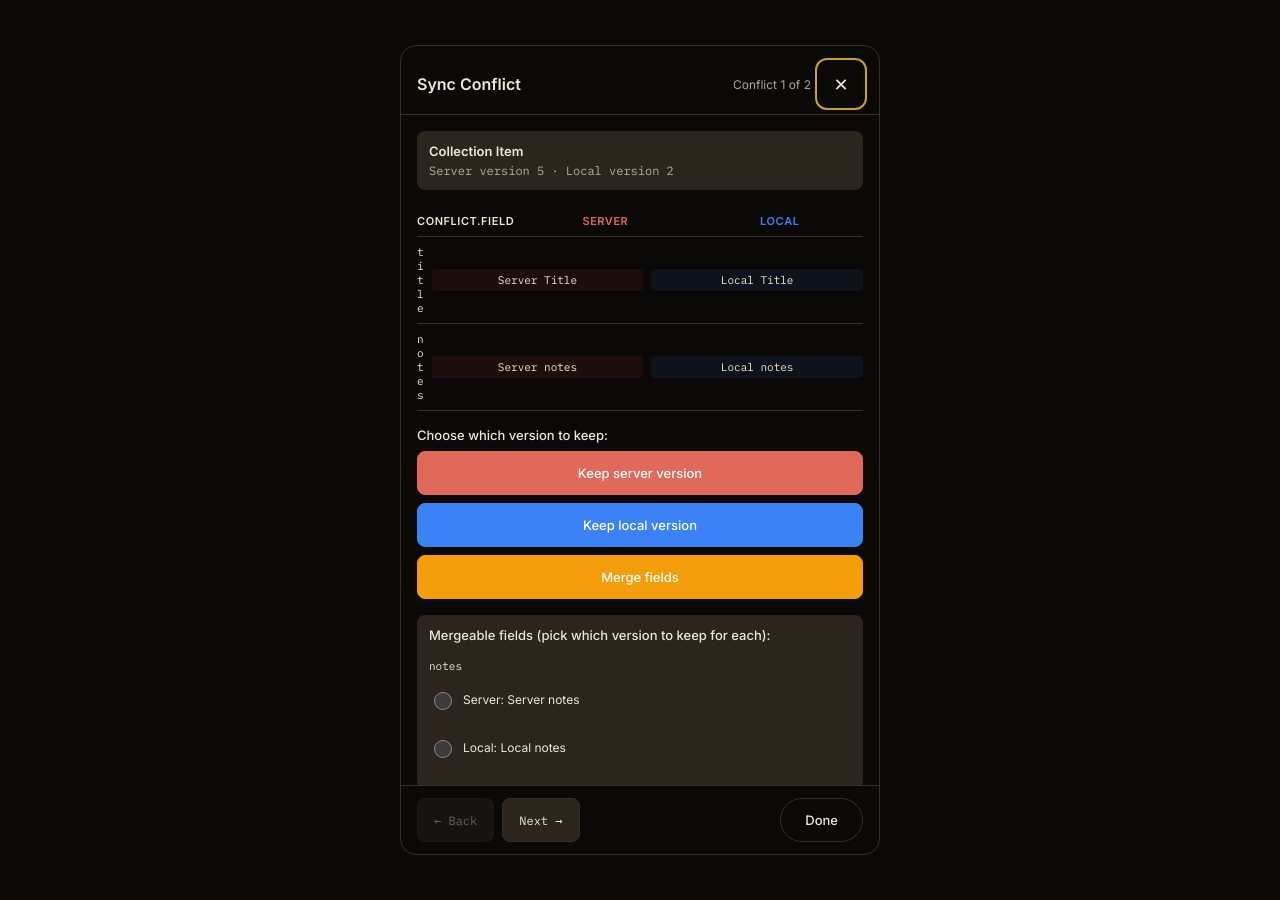
Test: ConflictResolutionModal with conflicts › navigates to next conflict
Expected: the text "Conflict 1 of 2" is shown, [733,76,811,92]
Note: Click next
Click the button "Next →": {"x": 541, "y": 820} [502,798,580,842]
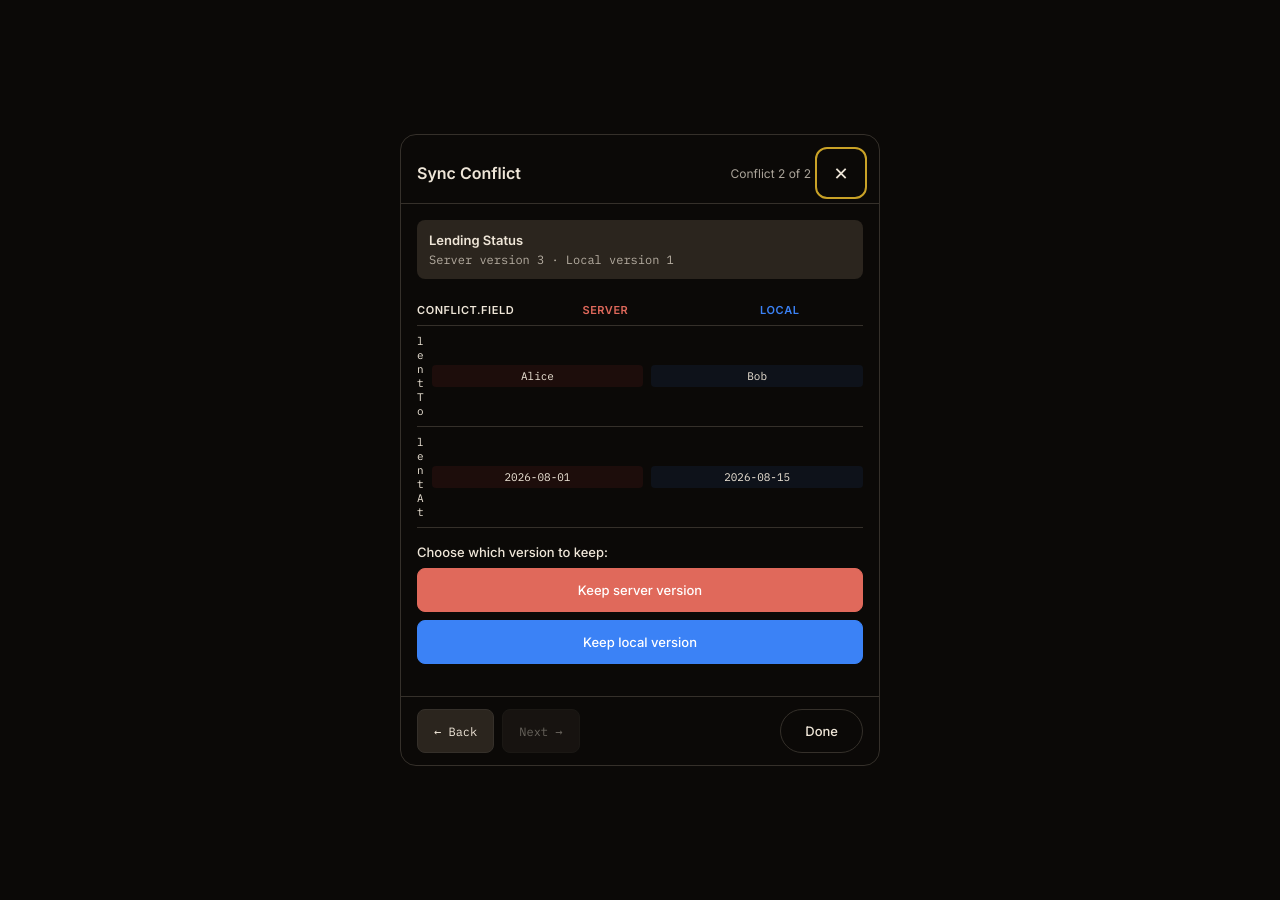
Result: the text "Conflict 2 of 2" is shown at [730,166,811,180]
